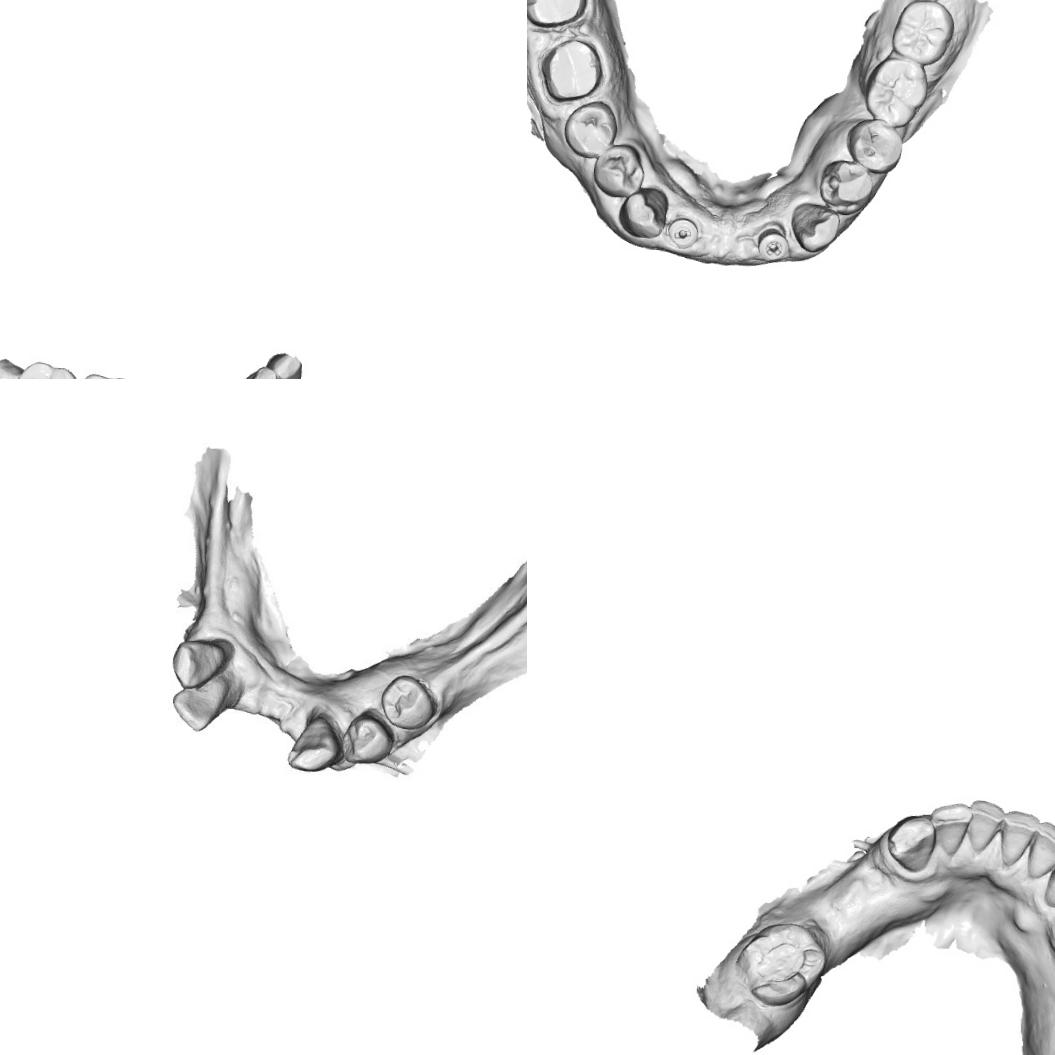canine: (282, 712, 340, 773), (786, 196, 842, 256), (884, 810, 936, 874), (615, 184, 671, 240), (170, 634, 228, 686), (1036, 846, 1055, 911)
crown: (536, 32, 606, 106), (527, 0, 593, 33)
implant_minus: (666, 212, 704, 254)
implant_plus: (752, 219, 794, 266)
incisor: (169, 674, 230, 734), (992, 806, 1040, 869), (926, 798, 972, 859), (963, 796, 1005, 856), (1024, 818, 1055, 883), (263, 350, 303, 379), (238, 364, 282, 379)
molar: (734, 914, 828, 1009), (860, 52, 931, 128), (888, 0, 957, 65), (12, 358, 80, 379)
premolar: (378, 668, 444, 732), (840, 114, 908, 175), (816, 155, 878, 218), (560, 98, 620, 162), (589, 139, 649, 200), (340, 708, 396, 769)
